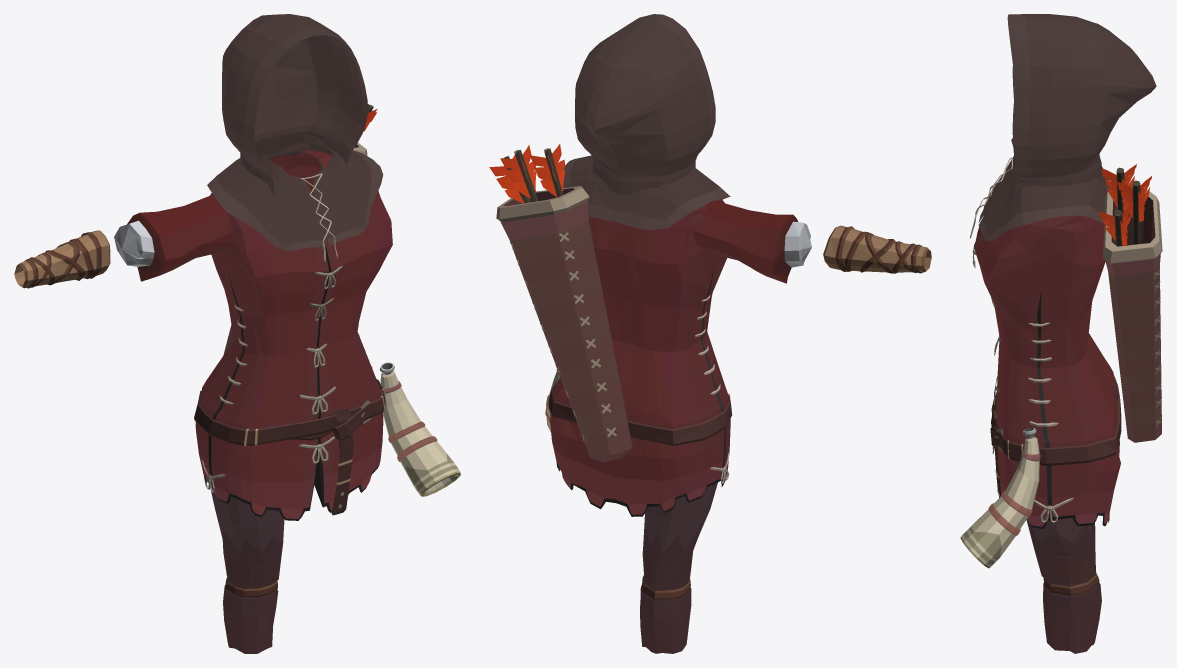
The model's file is hunterFemale.glb.
The picture shows the model from 3 angles, left to right: view 1: azimuth 30°, elevation 25°; view 2: azimuth 150°, elevation 25°; view 3: azimuth 270°, elevation 25°; orthographic projection. The views are drawn at different scales.
Visible parts, largest first — view 1: hunterShirt, hunterHood, hunterShoulderCloth, hunterUpperArm, commonerColorfulBelt.001, hunterHorn, hunterLowerLeg, hunterUpperLeg, hunterLowerArm; view 2: hunterShirt, hunterQuiver, hunterHood, hunterUpperArm, hunterShoulderCloth, hunterLowerLeg, hunterLowerArm, hunterUpperLeg, commonerColorfulBelt.001; view 3: hunterShirt, hunterHood, hunterQuiver, hunterLowerLeg, hunterShoulderCloth, hunterHorn, commonerColorfulBelt.001, hunterUpperLeg.
Part boxes in pixels (x1,y1,x2,y2): hunterShirt: [195, 150, 392, 520]; hunterHood: [222, 14, 367, 195]; hunterShoulderCloth: [207, 132, 383, 251]; hunterUpperArm: [114, 194, 232, 281]; commonerColorfulBelt.001: [194, 379, 385, 515]; hunterHorn: [380, 362, 460, 496]; hunterLowerLeg: [223, 553, 281, 653]; hunterUpperLeg: [205, 464, 284, 564]; hunterLowerArm: [14, 230, 110, 288]; hunterShirt: [550, 187, 730, 516]; hunterQuiver: [489, 144, 632, 462]; hunterHood: [575, 14, 715, 194]; hunterUpperArm: [692, 200, 811, 283]; hunterShoulderCloth: [563, 155, 730, 230]; hunterLowerLeg: [640, 551, 692, 653]; hunterLowerArm: [823, 225, 931, 273]; hunterUpperLeg: [643, 465, 717, 563]; commonerColorfulBelt.001: [548, 384, 732, 445]; hunterShirt: [972, 171, 1120, 529]; hunterHood: [1007, 14, 1156, 194]; hunterQuiver: [1099, 164, 1162, 442]; hunterLowerLeg: [1034, 544, 1101, 653]; hunterShoulderCloth: [978, 156, 1110, 241]; hunterHorn: [960, 427, 1040, 568]; commonerColorfulBelt.001: [990, 377, 1121, 497]; hunterUpperLeg: [1026, 518, 1095, 557].
Bounding box in the file's own units: 1.14 × 1.63 × 0.4651.
